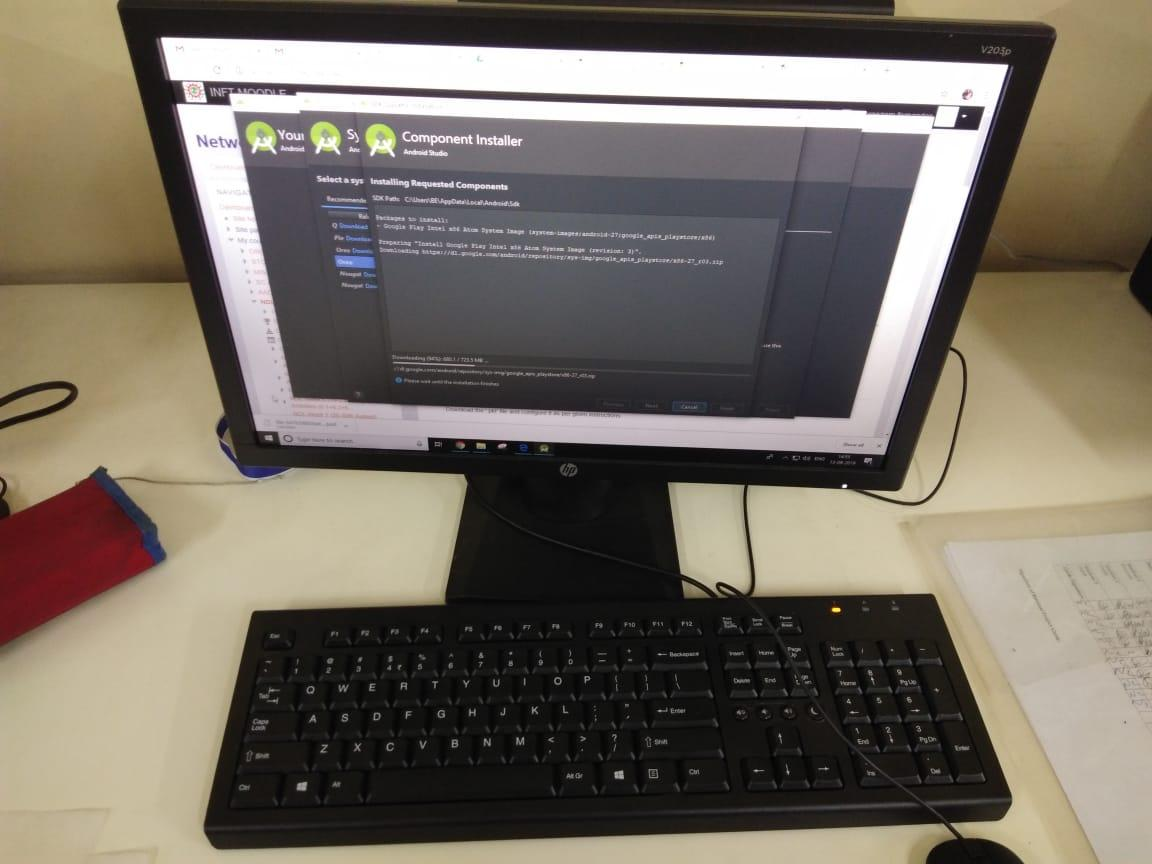keyboard: (192, 582, 1024, 860)
monitor: (92, 7, 1091, 512)
